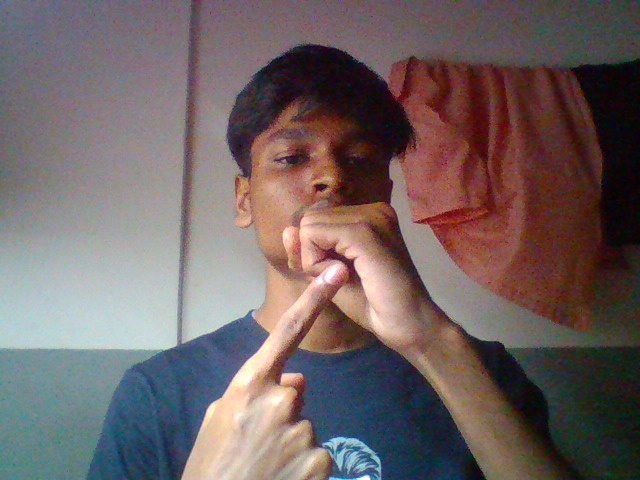Q: (177, 198, 535, 447)
